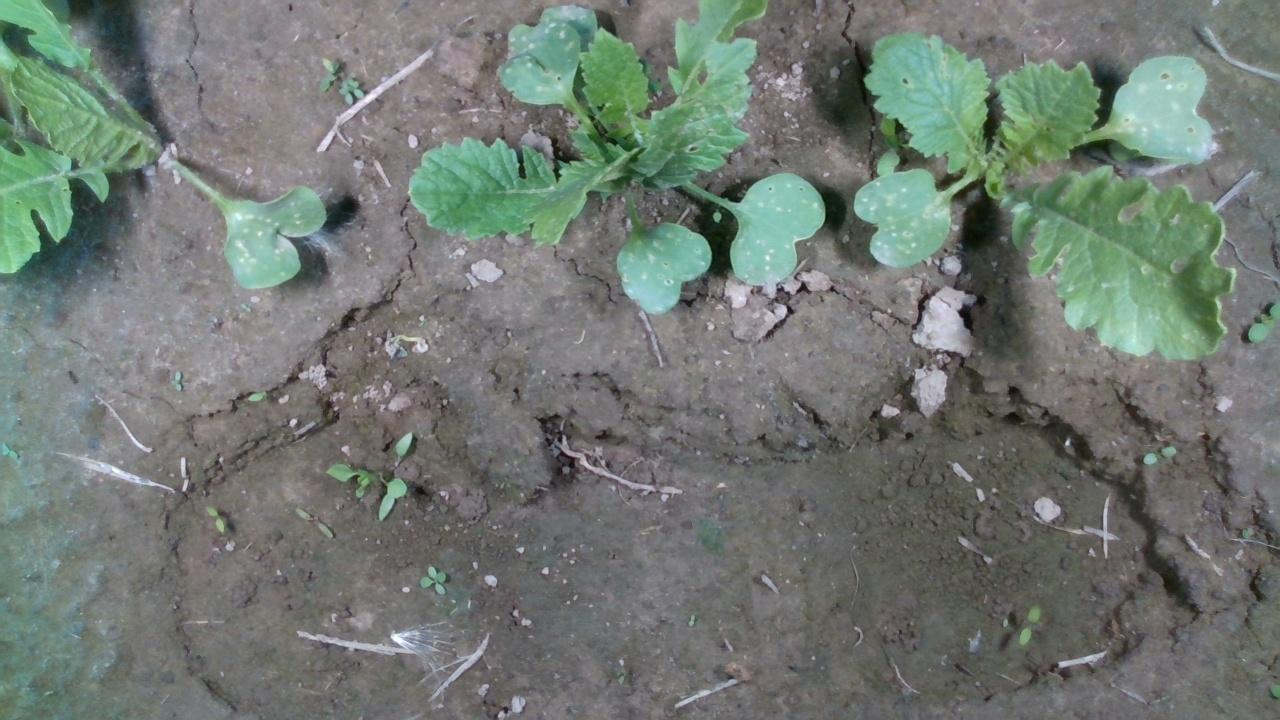weed: (293, 506, 333, 538), (1017, 601, 1040, 646), (419, 563, 447, 595), (1140, 444, 1176, 465), (205, 505, 224, 535), (169, 369, 182, 391), (245, 388, 267, 401)
